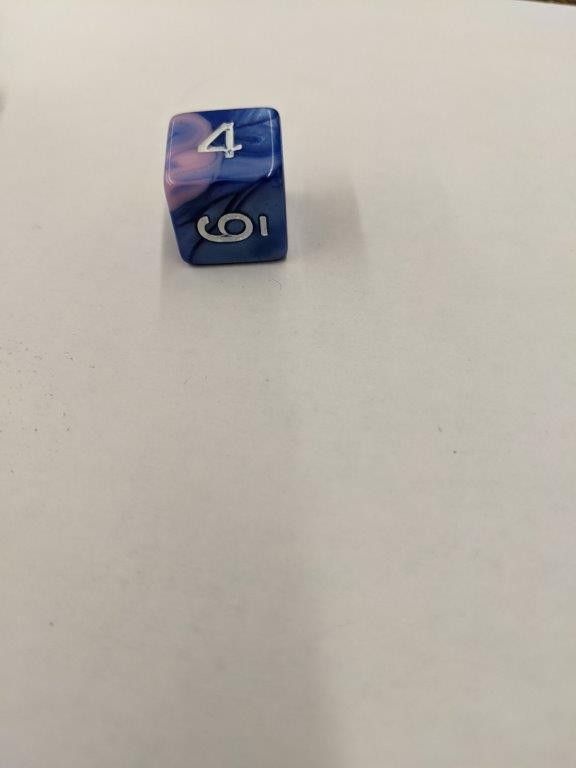d6-4: (160, 106, 293, 266)
